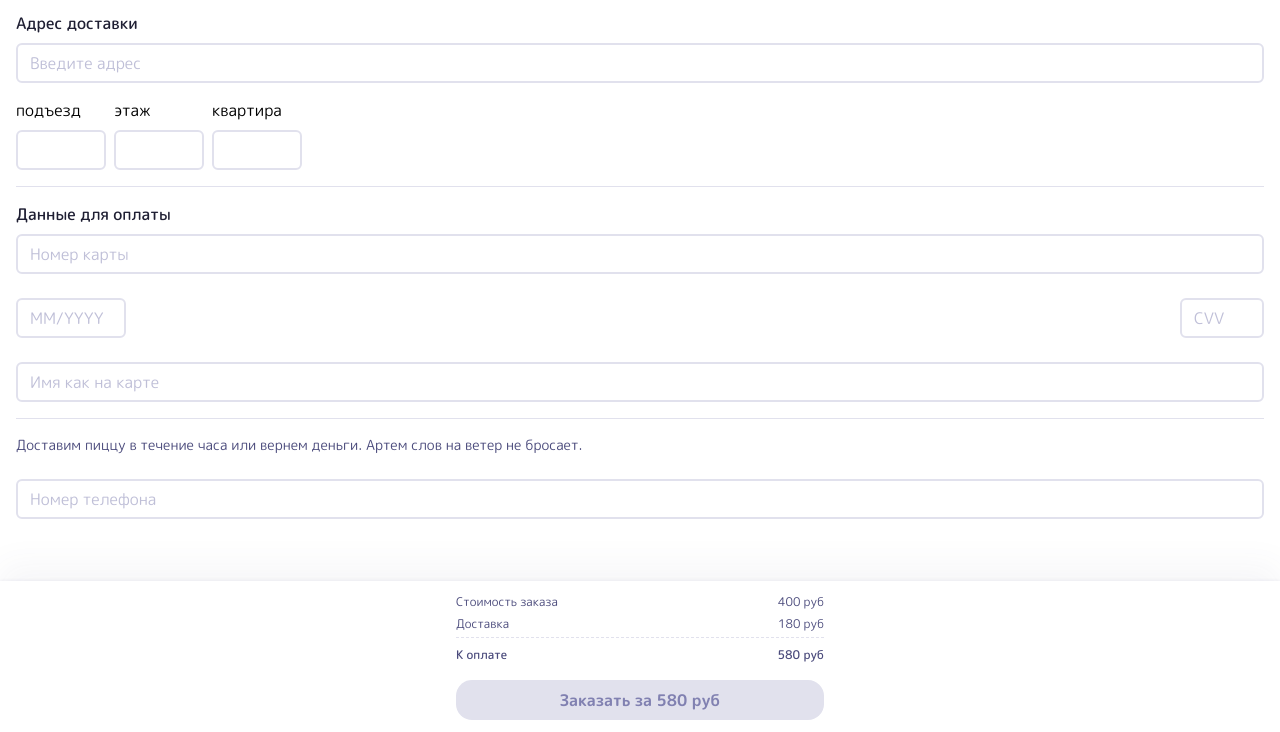
Test case: Form component › submit invalid form
Type "3" into the number field labelled "этаж".
click(159, 150); type("3")  # box [114, 130, 204, 170]
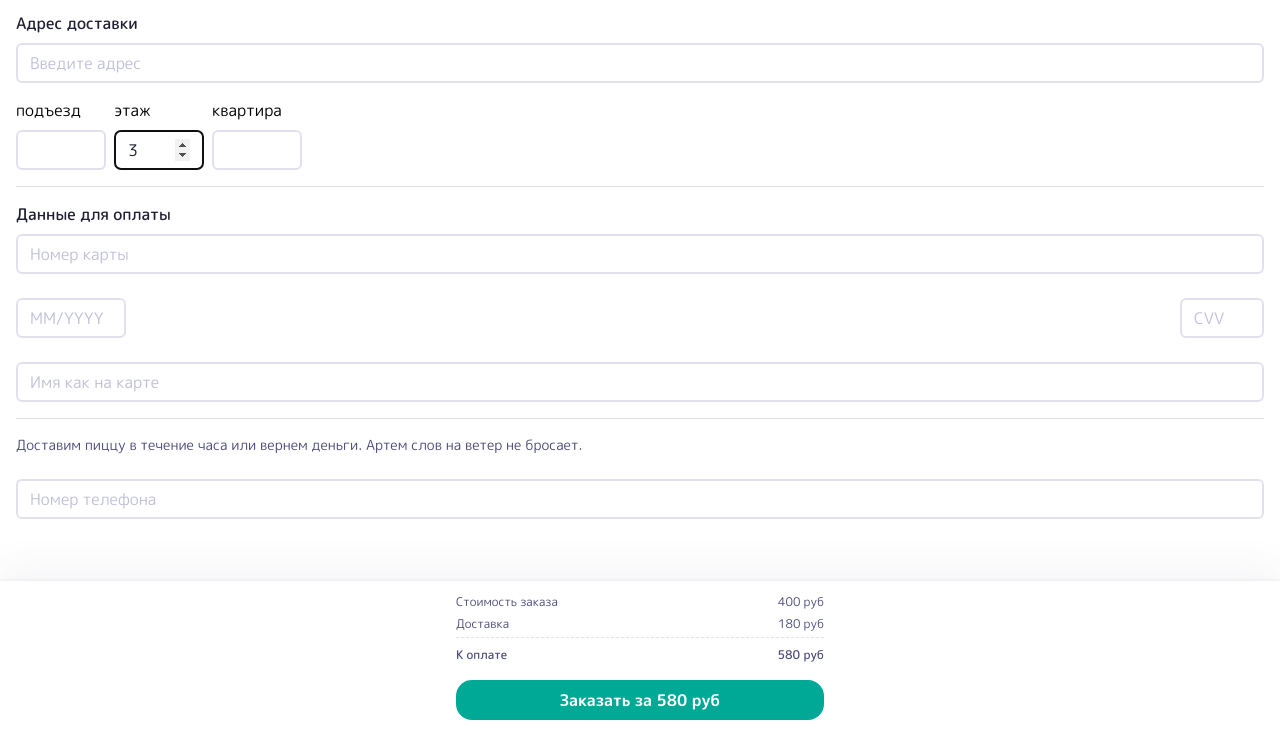
Click the button "Заказать за 580 руб".
click(640, 700)  # box [456, 680, 824, 720]
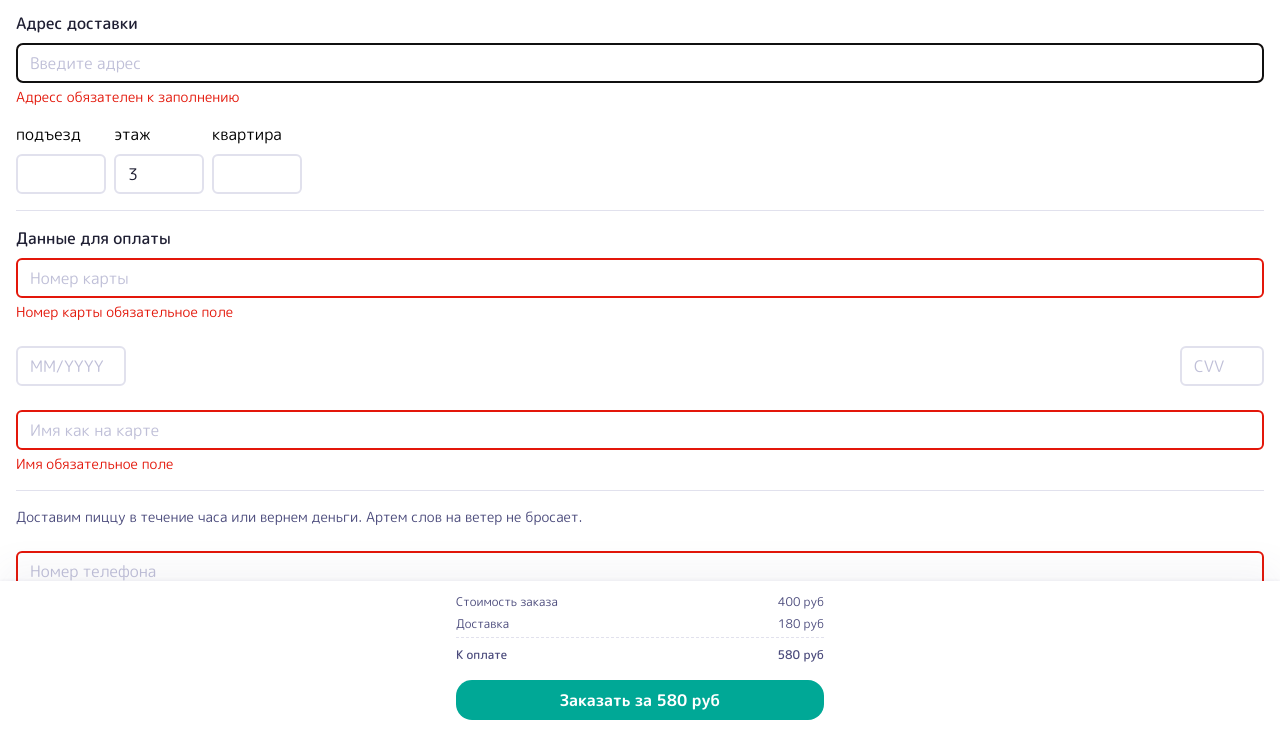
expect the text "Адресс обязателен к заполнению" is shown: met, box [16, 87, 239, 106]
expect the text "Номер карты обязательное поле" is shown: met, box [16, 302, 233, 321]
expect the text "Имя обязательное поле" is shown: met, box [16, 454, 173, 473]
